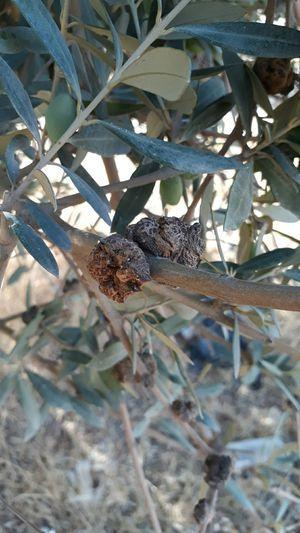Tuberculosis: (86, 235, 152, 304), (131, 213, 203, 264), (248, 50, 298, 100)
